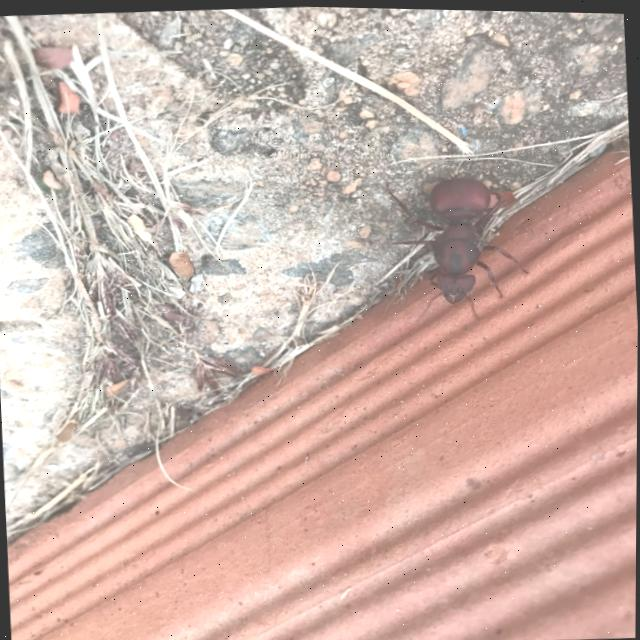Alive-Female-Dealate: (385, 170, 533, 324)
